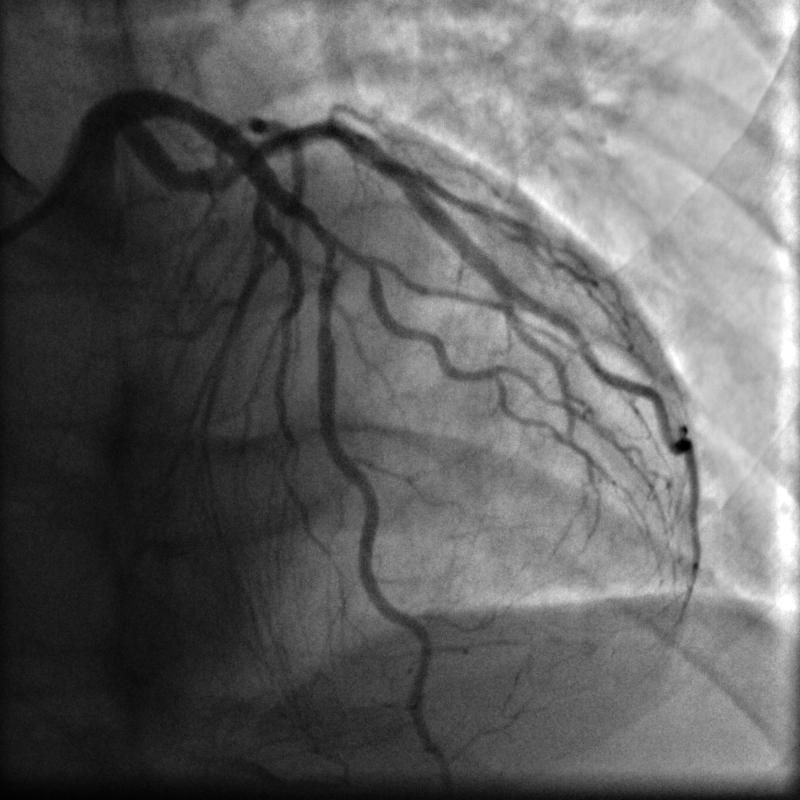Stenosis: (311, 229, 345, 299)
